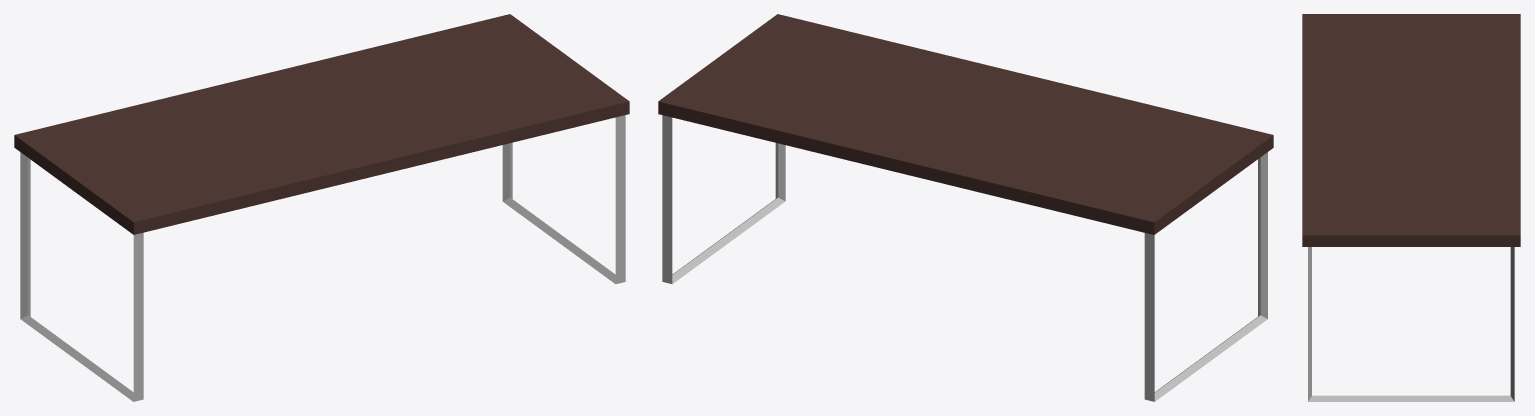
Rendered from desk.gltf.
3 renders of one model, left to right at view 1: azimuth 30°, elevation 25°; view 2: azimuth 150°, elevation 25°; view 3: azimuth 270°, elevation 25°, orthographic. The views are drawn at different scales.
Visible parts, largest first — view 1: desk; view 2: desk; view 3: desk.
Boxes of the visible parts, box(x1,y1,x2,y2) form: desk: box(14, 14, 629, 401); desk: box(658, 14, 1273, 401); desk: box(1302, 14, 1520, 401).
Size of the model in its own units: 1.83 by 0.6425 by 0.7619.
Materials: 1 (1 with a texture image).
